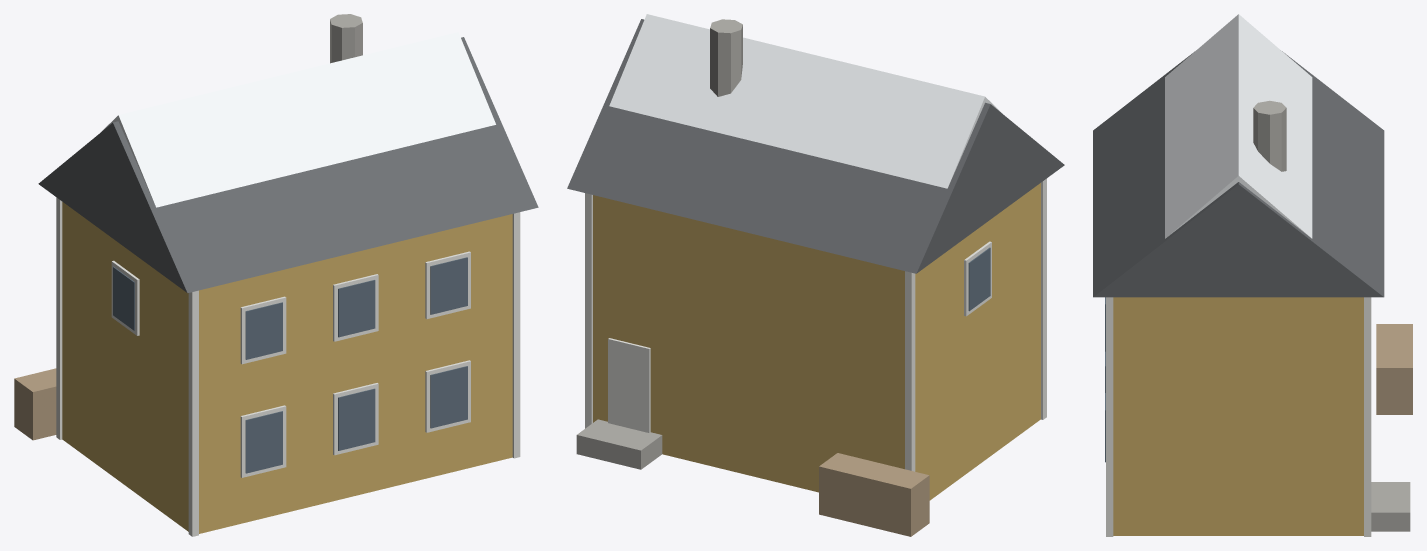
The model's file is FjordHouseOchre.glb.
3 renders of one model, left to right at view 1: azimuth 30°, elevation 25°; view 2: azimuth 150°, elevation 25°; view 3: azimuth 270°, elevation 25°, orthographic. The views are drawn at different scales.
Visible parts, largest first — view 1: House.001, Roof.002, Roof snow.001, Woodpile.001, Corner board.004, Corner board.006, Window.019, Window.021, Window.017, Window.020, Window.022, Window.018 (+10 smaller); view 2: House.001, Roof.002, Roof snow.001, Woodpile.001, Door.001, Step.001, Chimney.001, Corner board.005, Corner board.007, Corner board.004, Window.023, Window frame.023; view 3: House.001, Roof.002, Roof snow.001, Woodpile.001, Chimney.001, Step.001, Corner board.006, Corner board.007.
Boxes of the visible parts, x1,y1,x2,y2 form: House.001: (62,202,512,533); Roof.002: (38,37,538,293); Roof snow.001: (101,32,495,207); Woodpile.001: (14,368,56,440); Corner board.004: (188,290,198,536); Corner board.006: (512,212,520,458); Window.019: (338,388,375,450); Window.021: (430,366,467,428); Window.017: (245,411,282,473); Window.020: (338,280,375,337); Window.022: (430,257,467,314); Window.018: (245,302,282,359); House.001: (593,183,1040,500); Roof.002: (567,19,1064,273); Roof snow.001: (609,14,1001,188); Woodpile.001: (819,453,929,536); Door.001: (608,338,650,432); Step.001: (576,419,662,469); Chimney.001: (710,19,742,96); Corner board.005: (905,271,915,471); Corner board.007: (585,193,592,428); Corner board.004: (1041,178,1046,419); Window.023: (968,247,990,311); Window frame.023: (964,241,991,316); House.001: (1113,297,1363,535); Roof.002: (1093,51,1384,297); Roof snow.001: (1165,14,1312,238); Woodpile.001: (1376,324,1412,414); Chimney.001: (1253,100,1286,171); Step.001: (1371,482,1410,531); Corner board.006: (1106,297,1113,536); Corner board.007: (1364,297,1371,536).
Size of the model in its own units: 7.8 by 8.2 by 6.15.
